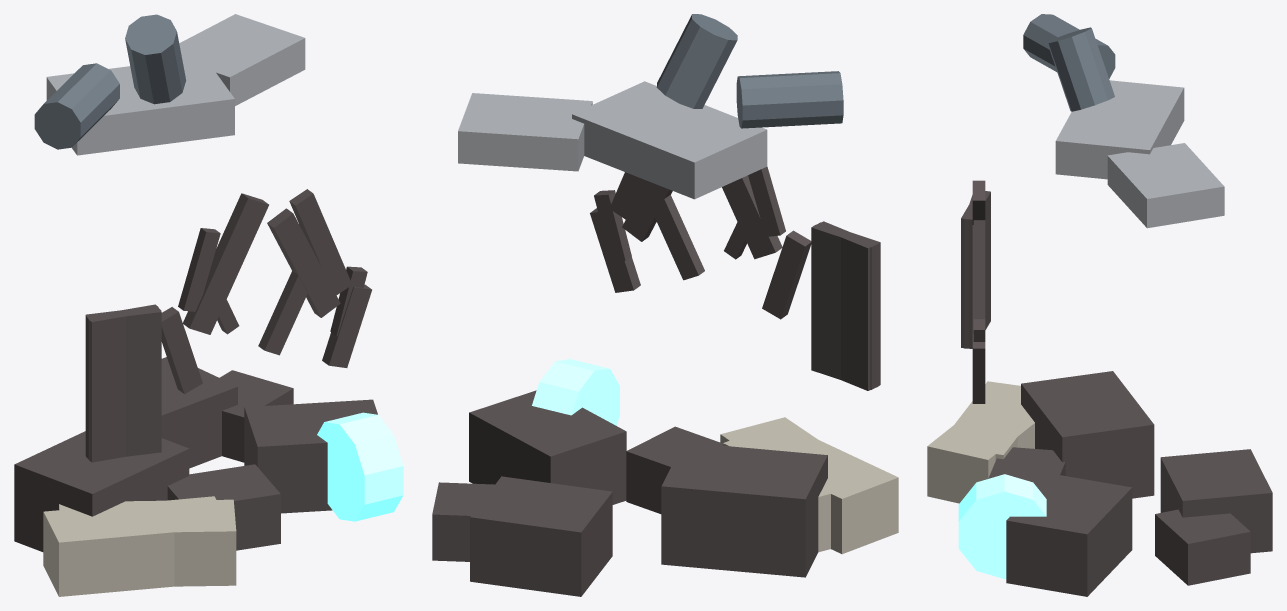
Rendered from tower_damage_common.glb.
The picture shows the model from 3 angles, left to right: view 1: azimuth 30°, elevation 25°; view 2: azimuth 150°, elevation 25°; view 3: azimuth 270°, elevation 25°; orthographic projection. The views are drawn at different scales.
Visible parts, largest first — view 1: DMG_Heavy_FallenButtress, DMG_Rubble_1, DMG_Critical_RoofSlab_A, DMG_Rubble_2, DMG_Critical_DetachedPlate_A, DMG_Critical_RoofSlab_B, DMG_Heavy_ButtressBreach, DMG_Critical_ButtressBreach, DMG_Rubble_4, DMG_Rubble_3, DMG_Critical_FallenButtress, DMG_Critical_FallenArm_A (+10 smaller); view 2: DMG_Rubble_1, DMG_Rubble_3, DMG_Critical_RoofSlab_A, DMG_Rubble_2, DMG_Critical_RoofSlab_B, DMG_Heavy_ButtressBreach, DMG_Critical_FallenArm_A, DMG_Heavy_FallenButtress, DMG_Critical_ButtressBreach, DMG_Critical_ArmStub_A, DMG_Critical_FallenButtress, DMG_Critical_DetachedPlate_A (+11 smaller); view 3: DMG_Rubble_2, DMG_Rubble_1, DMG_Critical_RoofSlab_A, DMG_Rubble_3, DMG_Critical_RoofSlab_B, DMG_Critical_FallenButtress, DMG_Rubble_5, DMG_Critical_DetachedPlate_A, DMG_Critical_ArmStub_A, DMG_Critical_FallenArm_A, DMG_Critical_ButtressBreach, DMG_Rubble_4 (+5 smaller).
Part boxes in pixels (left/top/right/bottom): DMG_Heavy_FallenButtress: left=43, top=496, right=229, bottom=596; DMG_Rubble_1: left=14, top=431, right=189, bottom=551; DMG_Critical_RoofSlab_A: left=46, top=56, right=234, bottom=155; DMG_Rubble_2: left=244, top=399, right=377, bottom=513; DMG_Critical_DetachedPlate_A: left=317, top=412, right=403, bottom=521; DMG_Critical_RoofSlab_B: left=179, top=14, right=305, bottom=105; DMG_Heavy_ButtressBreach: left=86, top=304, right=161, bottom=462; DMG_Critical_ButtressBreach: left=85, top=306, right=161, bottom=460; DMG_Rubble_4: left=167, top=464, right=280, bottom=550; DMG_Rubble_3: left=161, top=357, right=237, bottom=468; DMG_Critical_FallenButtress: left=59, top=499, right=236, bottom=586; DMG_Critical_FallenArm_A: left=34, top=63, right=119, bottom=149; DMG_Rubble_1: left=661, top=442, right=827, bottom=577; DMG_Rubble_3: left=470, top=476, right=612, bottom=596; DMG_Critical_RoofSlab_A: left=572, top=81, right=767, bottom=199; DMG_Rubble_2: left=469, top=390, right=626, bottom=504; DMG_Critical_RoofSlab_B: left=458, top=93, right=592, bottom=171; DMG_Heavy_ButtressBreach: left=811, top=222, right=880, bottom=389; DMG_Critical_FallenArm_A: left=736, top=71, right=843, bottom=128; DMG_Heavy_FallenButtress: left=723, top=421, right=898, bottom=554; DMG_Critical_ButtressBreach: left=814, top=221, right=878, bottom=390; DMG_Critical_ArmStub_A: left=656, top=14, right=737, bottom=108; DMG_Critical_FallenButtress: left=720, top=417, right=878, bottom=552; DMG_Critical_DetachedPlate_A: left=532, top=359, right=619, bottom=425; DMG_Rubble_2: left=1006, top=473, right=1132, bottom=596; DMG_Rubble_1: left=1021, top=371, right=1154, bottom=498; DMG_Critical_RoofSlab_A: left=1055, top=80, right=1184, bottom=179; DMG_Rubble_3: left=1160, top=449, right=1272, bottom=553; DMG_Critical_RoofSlab_B: left=1107, top=143, right=1224, bottom=228; DMG_Critical_FallenButtress: left=927, top=386, right=1034, bottom=503; DMG_Rubble_5: left=1155, top=509, right=1250, bottom=585; DMG_Critical_DetachedPlate_A: left=958, top=474, right=1046, bottom=579; DMG_Critical_ArmStub_A: left=1047, top=27, right=1114, bottom=111; DMG_Critical_FallenArm_A: left=1023, top=14, right=1115, bottom=78; DMG_Critical_ButtressBreach: left=961, top=191, right=990, bottom=348; DMG_Rubble_4: left=988, top=447, right=1065, bottom=487.
Bounding box in the file's own units: 1.7 × 2.24 × 1.5.
